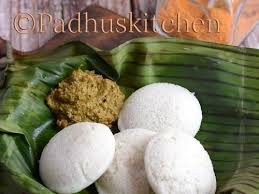idli: (35, 81, 220, 194)
